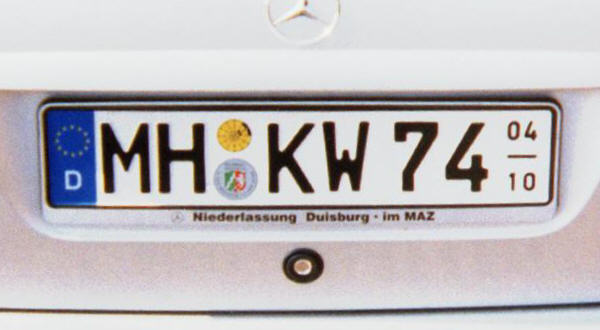license_plate: (40, 102, 558, 213)
